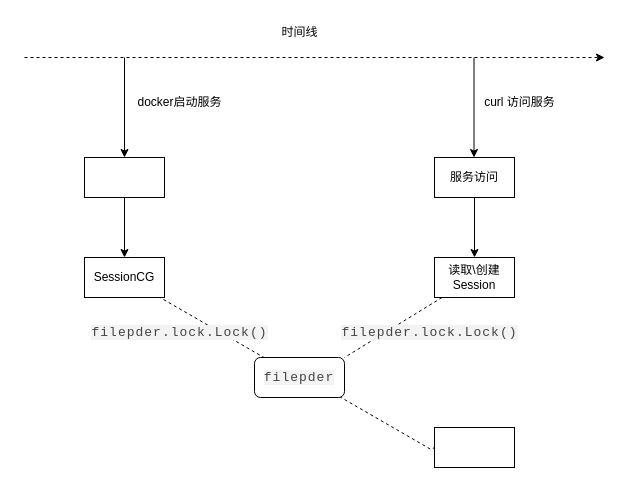
Some shapes in this 630 by 485 pixel diagram are drawn without their labels. The shapes that lost their labels are listed below. From the top down, each one's centre as x and y in pixels, then its label:
At point (124, 177): "服务启动".
At point (474, 447): "处理请求".
